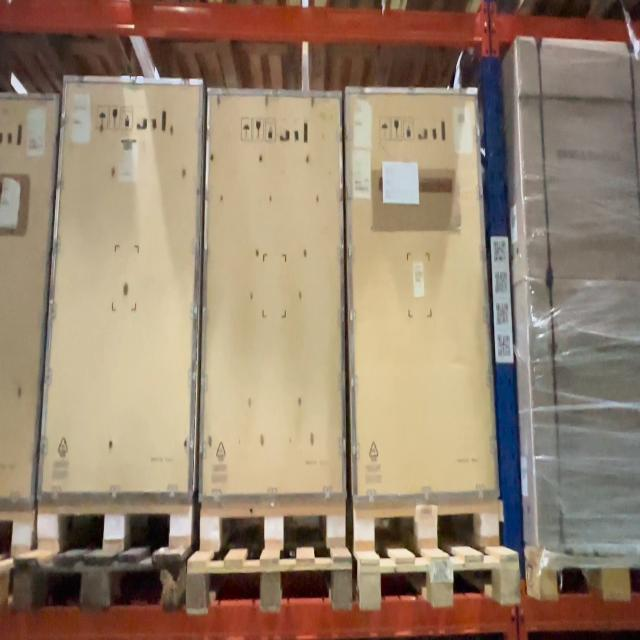box: (209, 89, 342, 500), (64, 80, 192, 500), (354, 88, 476, 502)
